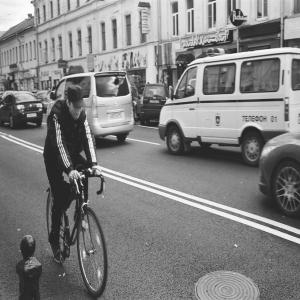Vehicle-registration-plate: (110, 112, 123, 121)
